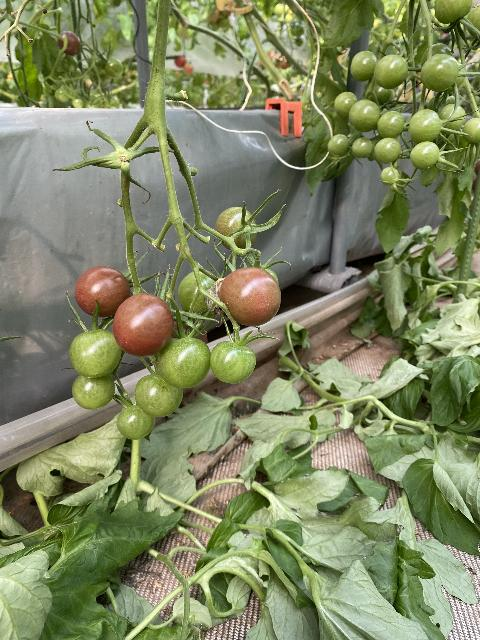l_fully_ripened: (73, 265, 131, 318)
l_green: (157, 337, 211, 389), (68, 329, 122, 378), (178, 270, 223, 321), (134, 374, 183, 418), (210, 341, 256, 384), (215, 207, 256, 250), (72, 374, 116, 410), (420, 53, 460, 92), (116, 405, 156, 439), (373, 54, 408, 90), (408, 109, 443, 144), (348, 99, 380, 133), (434, 0, 473, 24), (420, 43, 454, 70), (410, 141, 440, 170), (376, 110, 405, 140), (350, 50, 377, 82), (439, 103, 466, 135), (374, 137, 401, 163), (333, 92, 358, 119), (466, 5, 480, 41), (327, 134, 350, 155), (351, 137, 373, 158), (463, 117, 480, 144), (381, 166, 400, 186)
l_half_ripened: (112, 293, 174, 357), (219, 267, 281, 327)
